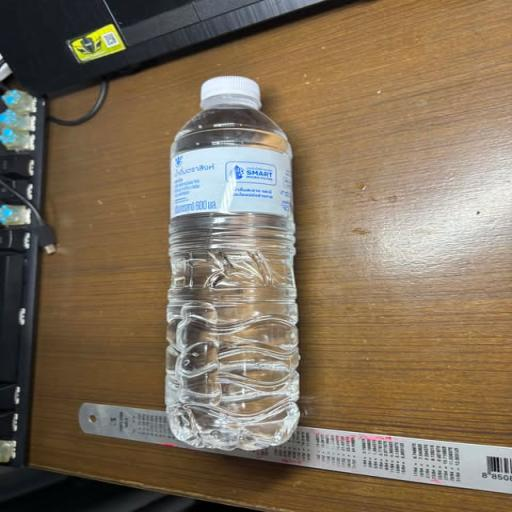bottle: (149, 61, 319, 461)
